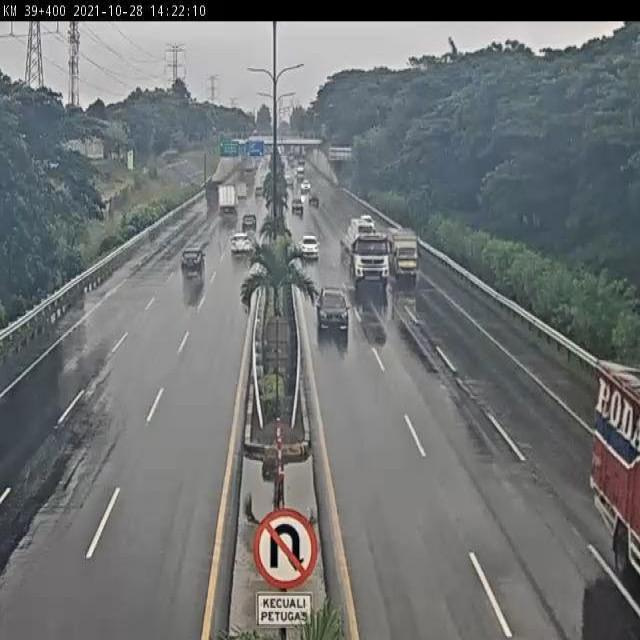car: (315, 280, 349, 335), (180, 246, 206, 282), (297, 232, 322, 263), (227, 231, 253, 260), (239, 212, 260, 233)
truck-s-: (385, 222, 422, 286)
truck-xl-: (338, 212, 392, 289)
